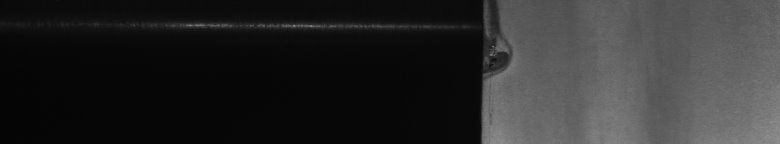hb: (496, 4, 519, 80)
